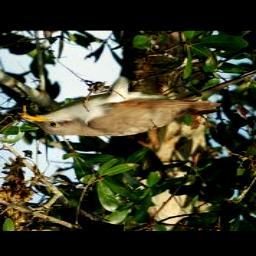Cuckoo: (16, 62, 224, 139)
